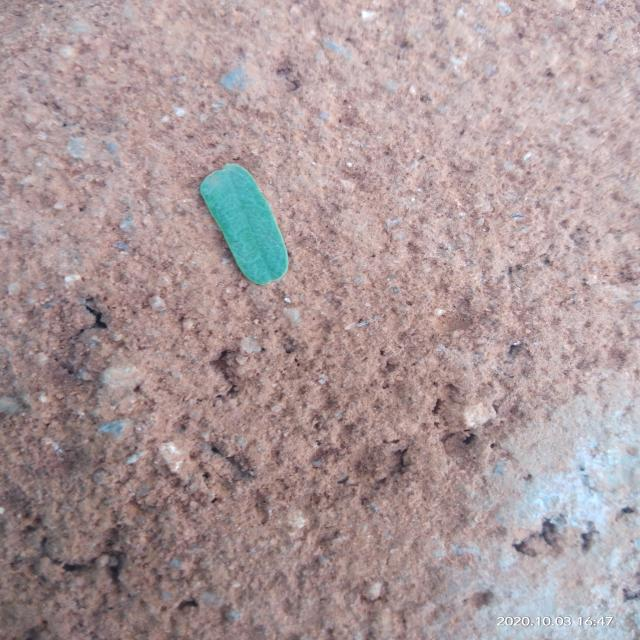tamarind: (200, 164, 288, 285)
